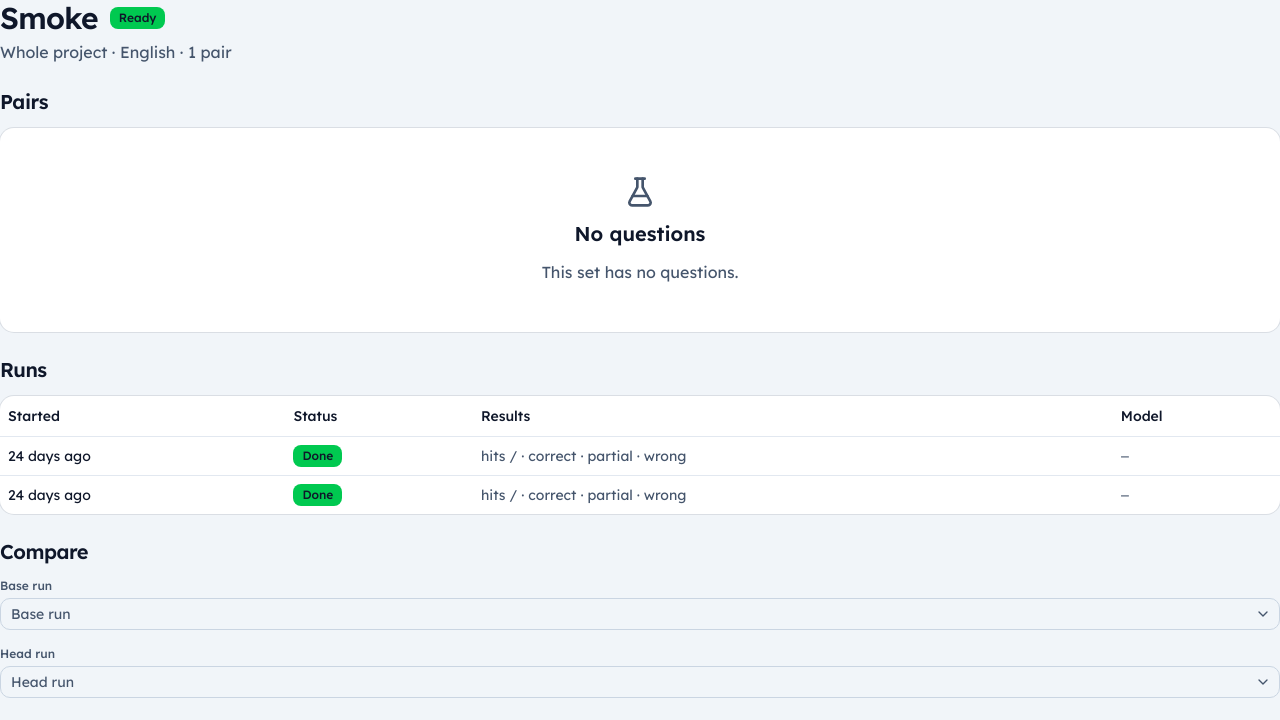
Scenario: EvalSetScreen › compares two different runs and will not pair a run with itself
Click the dropdown labelled "Base run". click: (41, 614)
box: [0,598,1279,630]
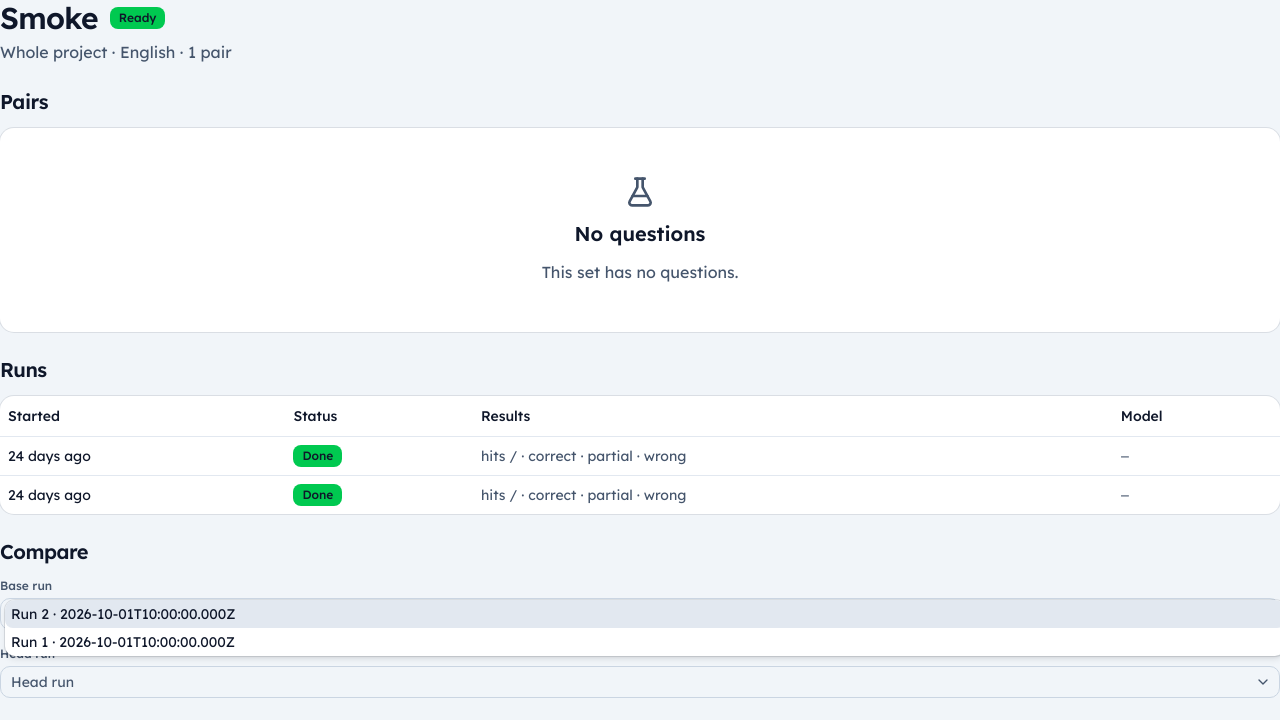
Click the option "Run 2 · 2026-10-01T10:00:00.000Z". click: (123, 614)
box: [5,600,1279,628]
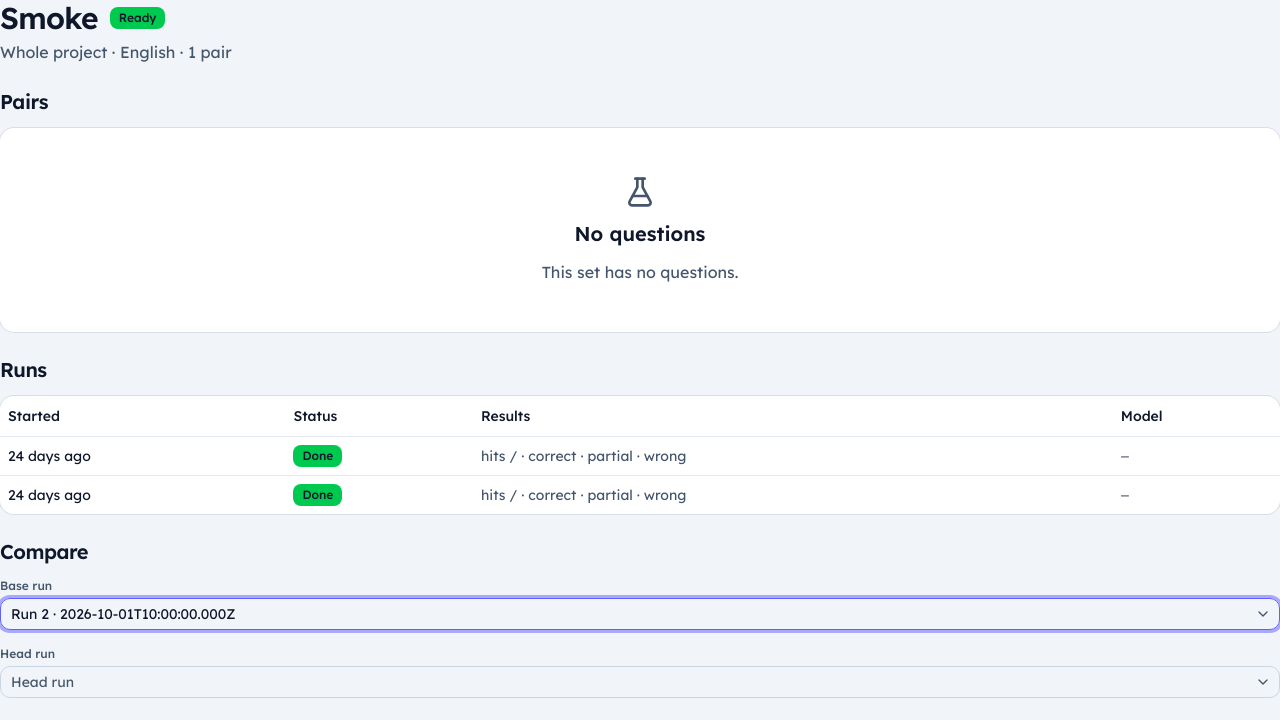
Click the dropdown labelled "Head run". click: (42, 682)
box: [0,666,1279,698]
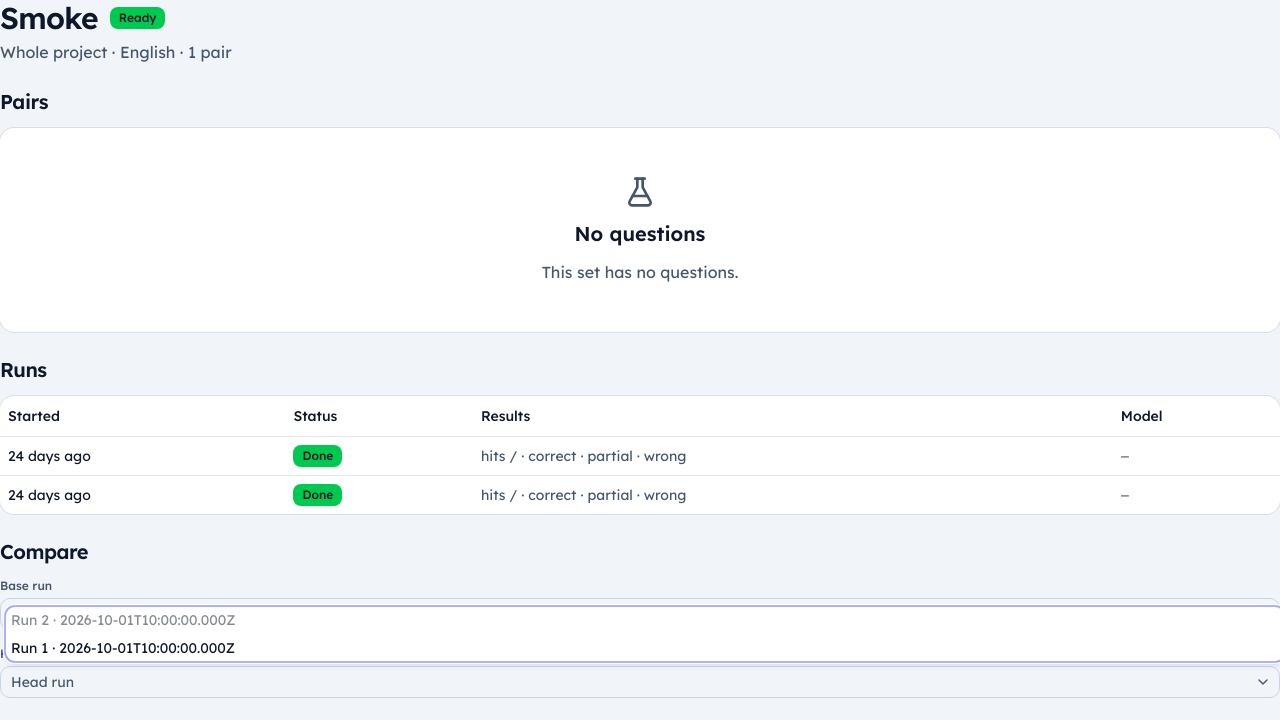
Check: the option "Run 2 · 2026-10-01T10:00:00.000Z" is disabled, box [11,611,236,629]
Click the option "Run 1 · 2026-10-01T10:00:00.000Z". click: (123, 648)
box: [11,639,235,657]
(page scrolled)
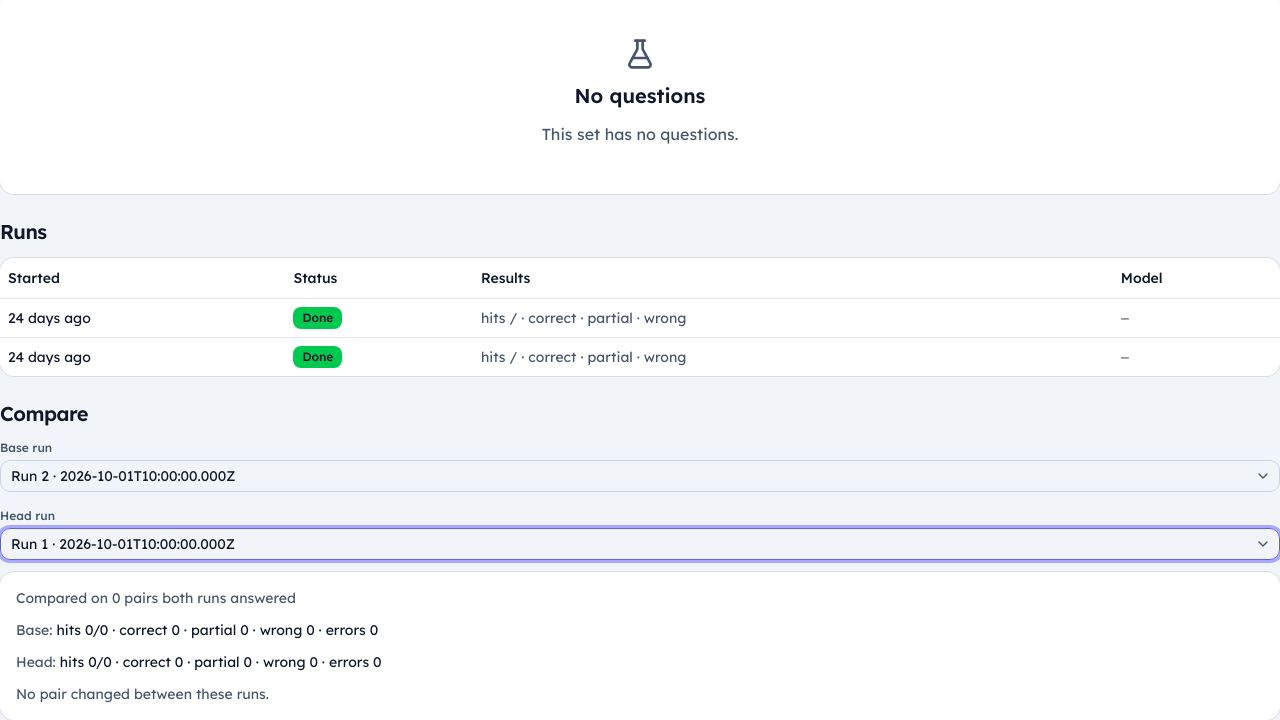
Check: the text "No pair changed between these runs." is shown, box [16,684,269,702]
